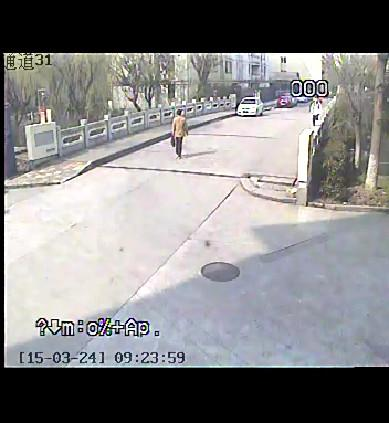person: (164, 107, 191, 162), (303, 93, 322, 131), (163, 97, 180, 125)
